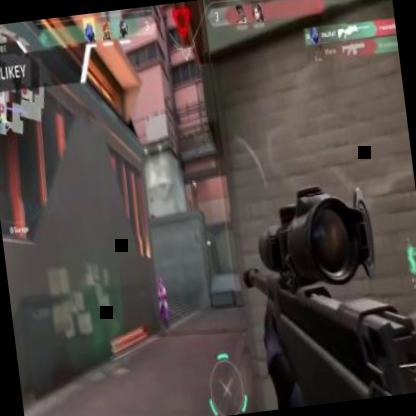enemy: (156, 279, 172, 329)
enemy_head: (158, 280, 163, 290)
